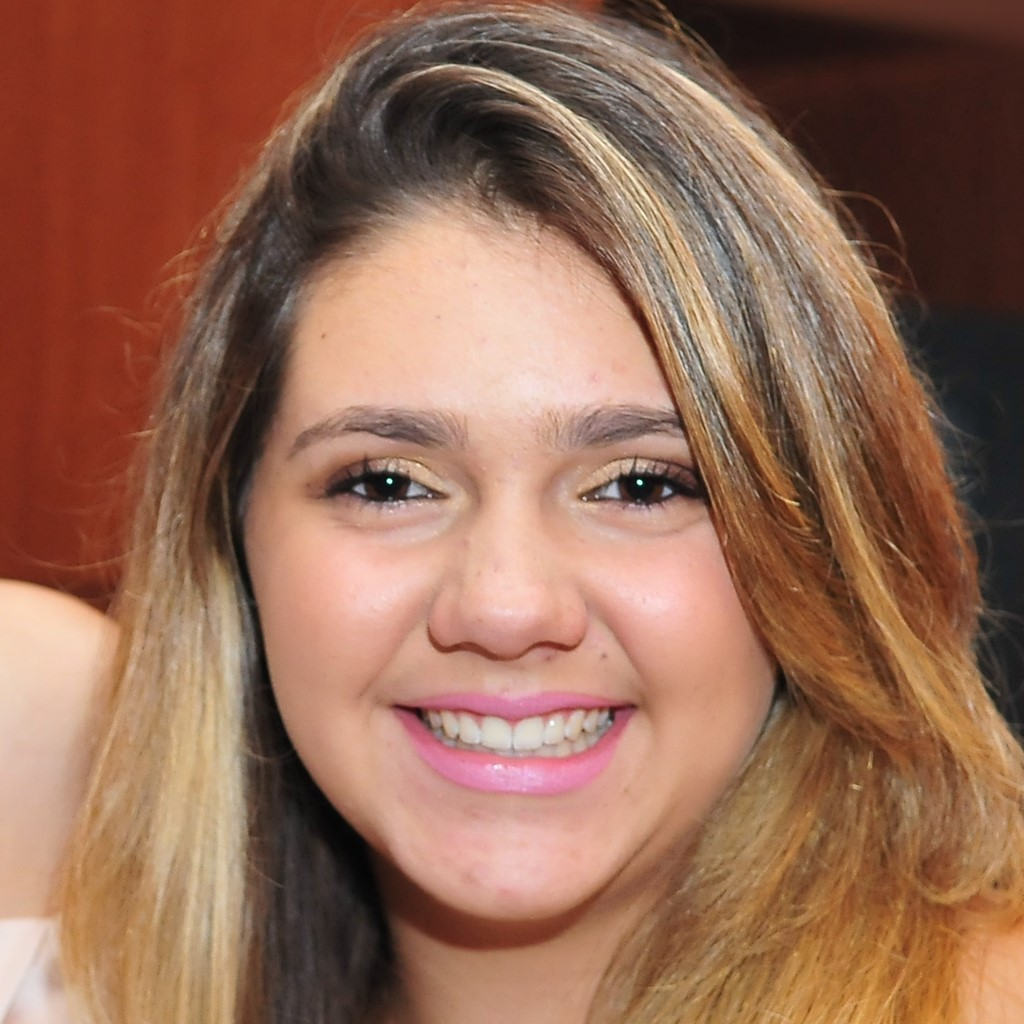sin_mascara: (222, 119, 810, 946)
